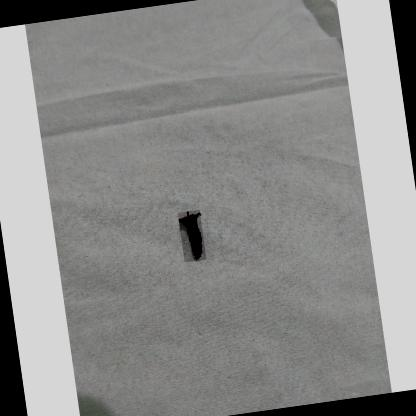buruk: (179, 211, 204, 260)
